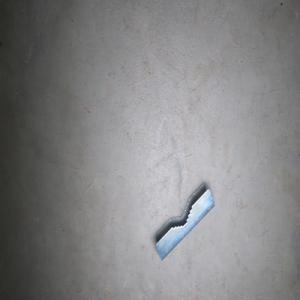ClampPart: (153, 181, 215, 261)
